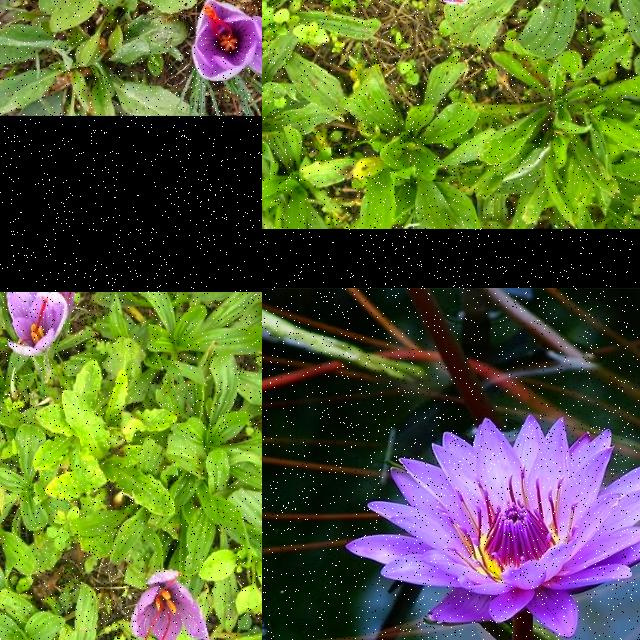flower: (192, 0, 262, 82), (132, 572, 208, 640), (5, 292, 74, 360)
